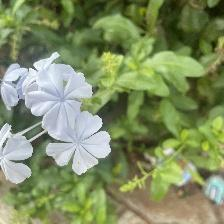chitrak: (45, 111, 114, 178), (30, 64, 91, 129), (1, 121, 36, 185), (1, 63, 29, 111)
